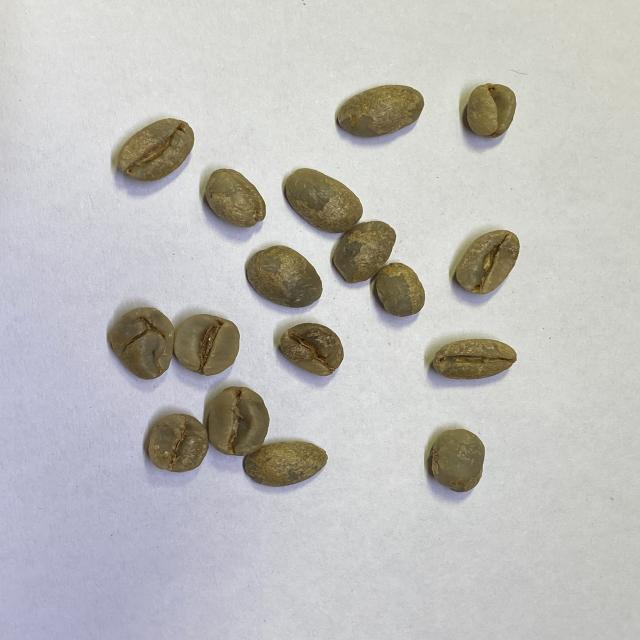bad: (109, 306, 177, 380), (278, 322, 344, 376)
good: (117, 115, 196, 184), (284, 164, 363, 233), (334, 82, 425, 138), (244, 246, 323, 308), (206, 384, 268, 457), (454, 228, 519, 295), (173, 313, 240, 375), (332, 220, 398, 282), (243, 441, 331, 485), (205, 167, 267, 228), (429, 429, 488, 492), (433, 339, 519, 381), (146, 414, 207, 472), (465, 81, 517, 139), (374, 261, 426, 317)
